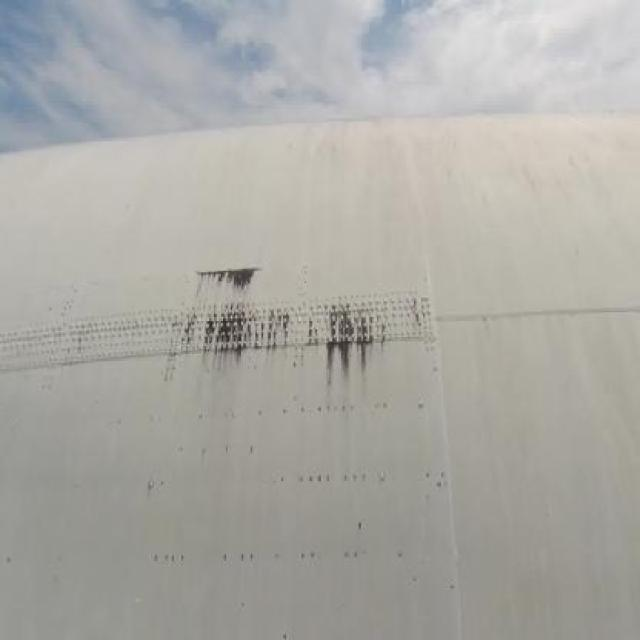Rust: (162, 247, 398, 413)
